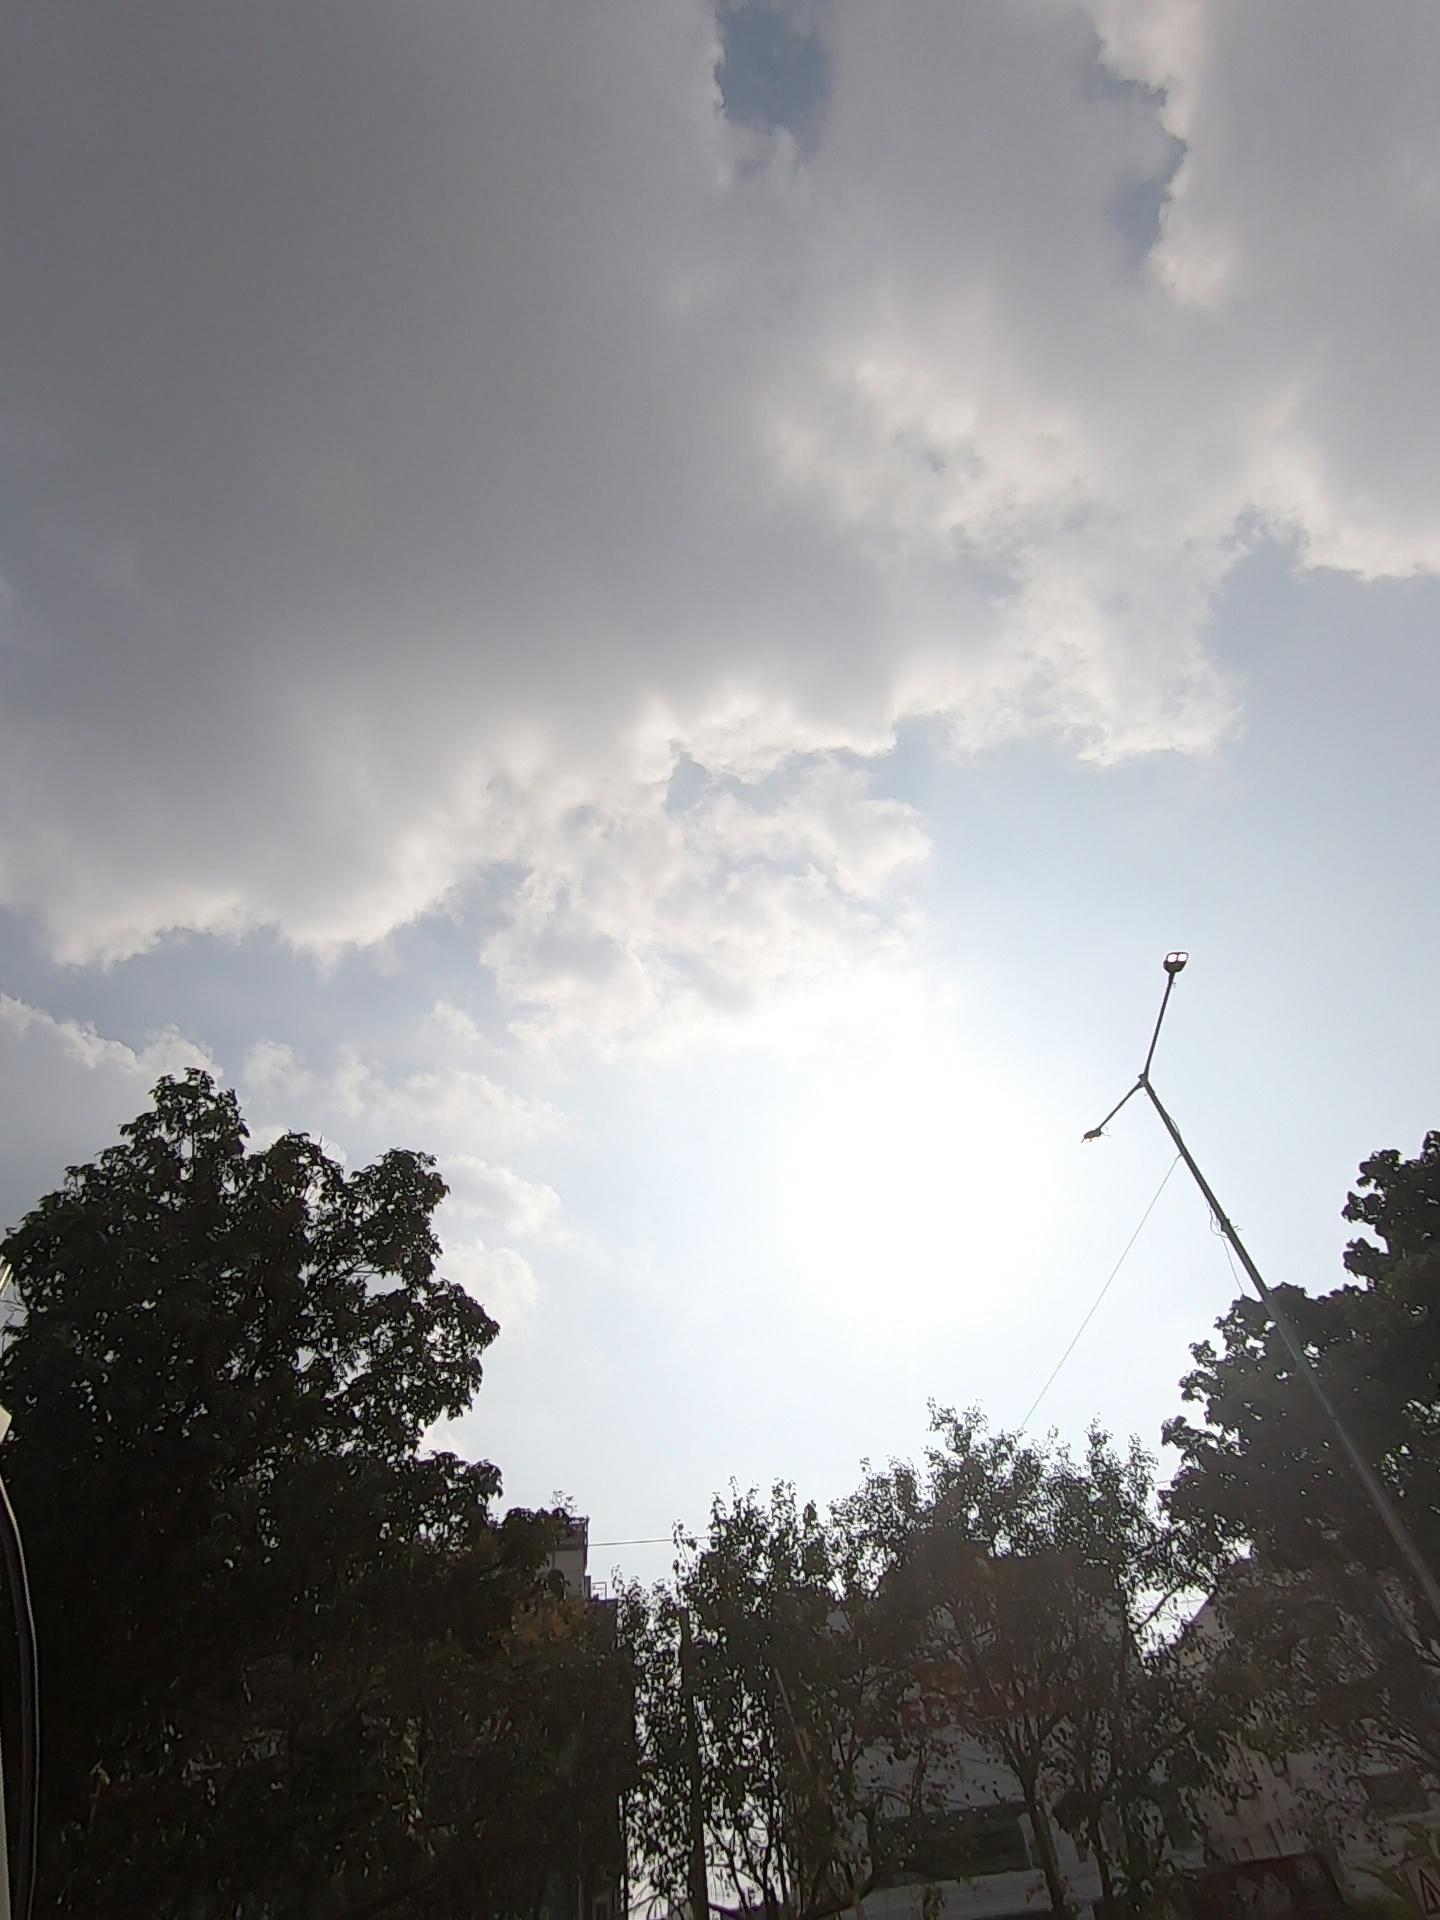off: (954, 847, 1260, 1264)
